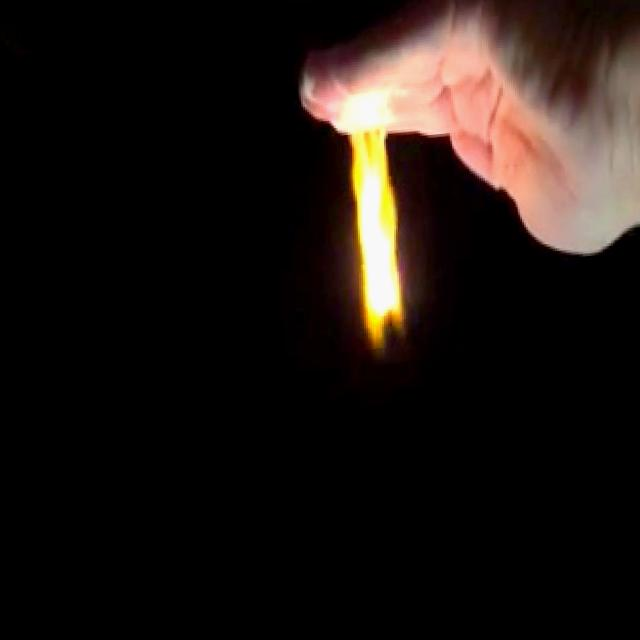no_helmet: (336, 77, 410, 378)
